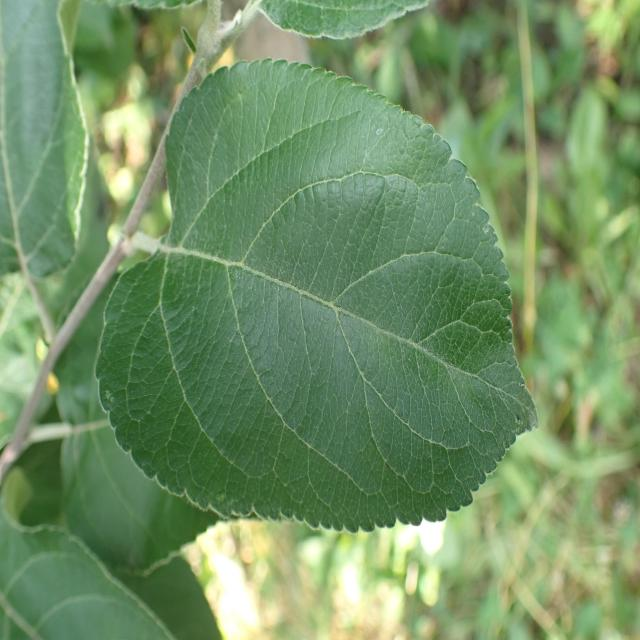healthy: (93, 58, 539, 534), (58, 399, 223, 576), (0, 0, 88, 278), (0, 506, 175, 640), (255, 0, 431, 40)
